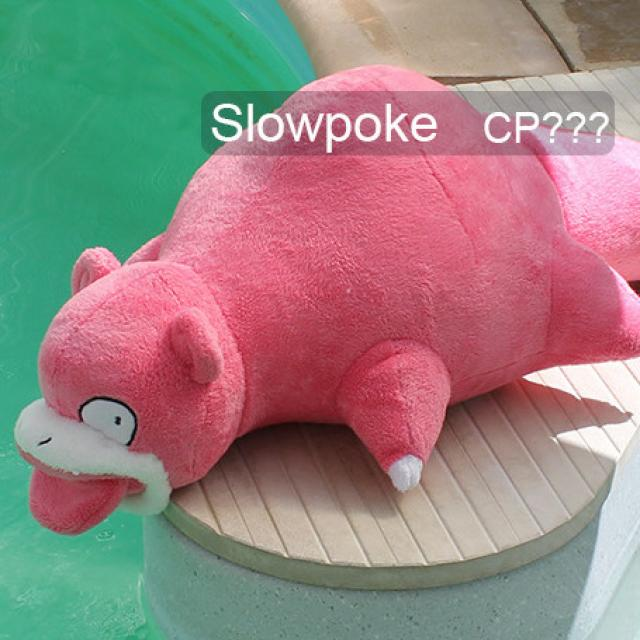Slowpoke: (21, 69, 637, 512)
